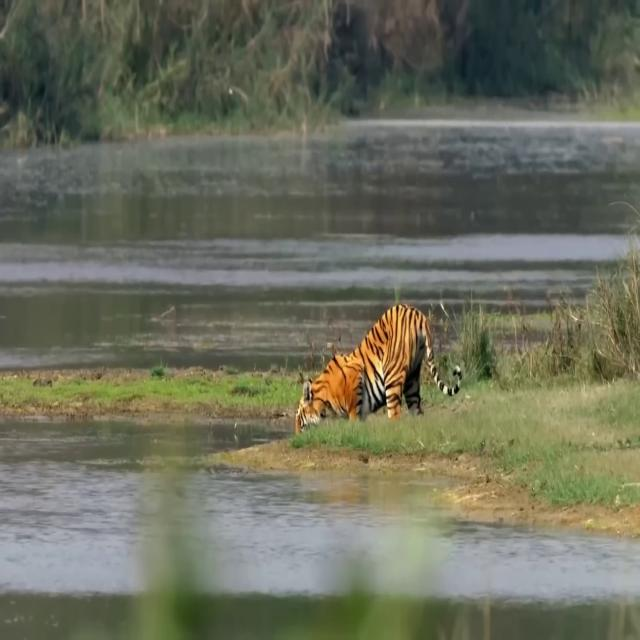tiger: (296, 303, 462, 434)
